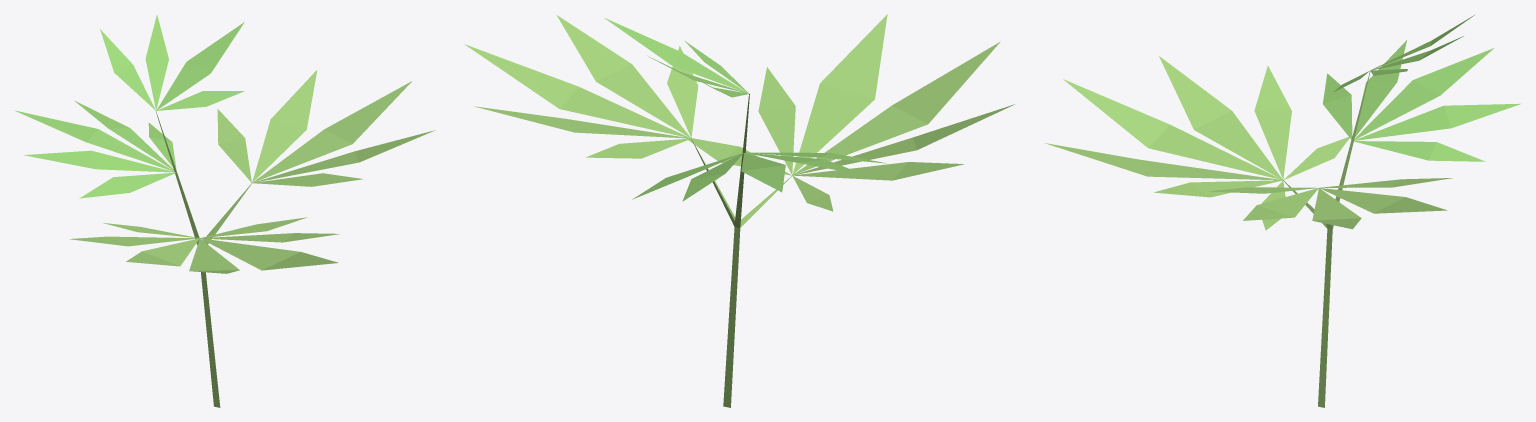
Rendered from Plant_i_TwoS_02.fbx.
3 views of the same model, side by side, from view 1: azimuth 30°, elevation 25°; view 2: azimuth 150°, elevation 25°; view 3: azimuth 270°, elevation 25° (orthographic). The views are drawn at different scales.
Visible parts, largest first — view 1: Plant_i_TwoS_02; view 2: Plant_i_TwoS_02; view 3: Plant_i_TwoS_02.
Part boxes in pixels (x1=…): Plant_i_TwoS_02: x1=14, y1=14, x2=435, y2=407; Plant_i_TwoS_02: x1=464, y1=14, x2=1014, y2=407; Plant_i_TwoS_02: x1=1045, y1=14, x2=1520, y2=407.
Size of the model in its own units: 82.73 by 70.85 by 82.01.
